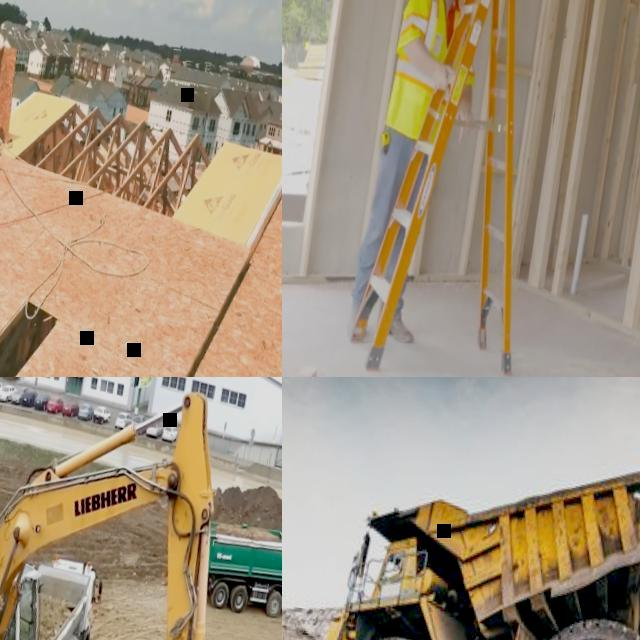machinery: (285, 382, 640, 640), (0, 377, 249, 640), (197, 511, 282, 626), (19, 551, 107, 640)
person: (345, 0, 481, 352), (0, 23, 10, 171), (6, 627, 16, 640)
vehicle: (92, 406, 111, 427), (130, 414, 148, 436), (61, 400, 80, 420), (162, 422, 180, 443), (115, 412, 133, 432), (77, 402, 95, 422), (46, 396, 64, 416), (34, 392, 52, 412), (10, 387, 28, 407), (0, 384, 17, 404), (146, 421, 163, 440), (21, 389, 38, 408)
vest: (391, 0, 488, 103)
